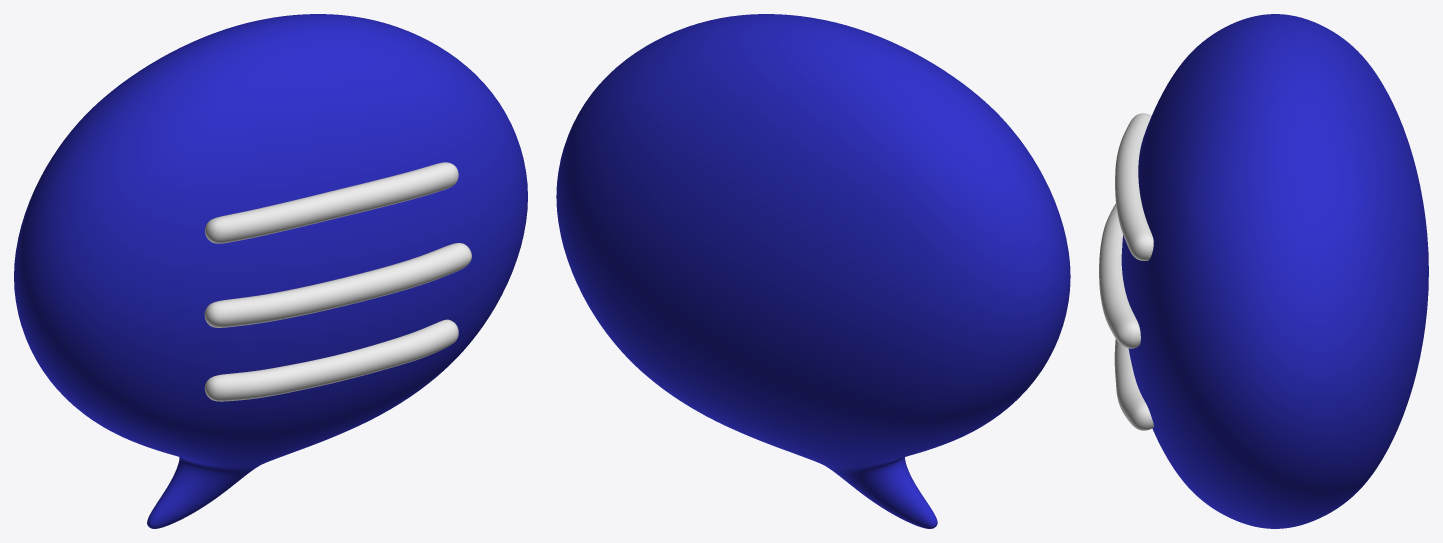
Rendered from chat-text.fbx.
3 renders of one model, left to right at view 1: azimuth 30°, elevation 25°; view 2: azimuth 150°, elevation 25°; view 3: azimuth 270°, elevation 25°, orthographic. The views are drawn at different scales.
Visible parts, largest first — view 1: Chat; view 2: Chat; view 3: Chat.
Boxes of the visible parts, x1=… form: Chat: x1=14, y1=14, x2=527, y2=528; Chat: x1=556, y1=14, x2=1070, y2=528; Chat: x1=1099, y1=14, x2=1428, y2=528.
Bounding box in the file's own units: 189 × 174 × 102.
